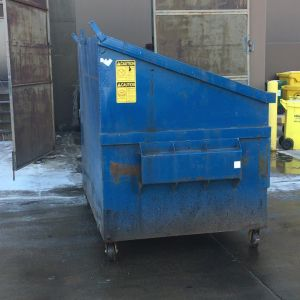Dumpster: (71, 21, 280, 264)
